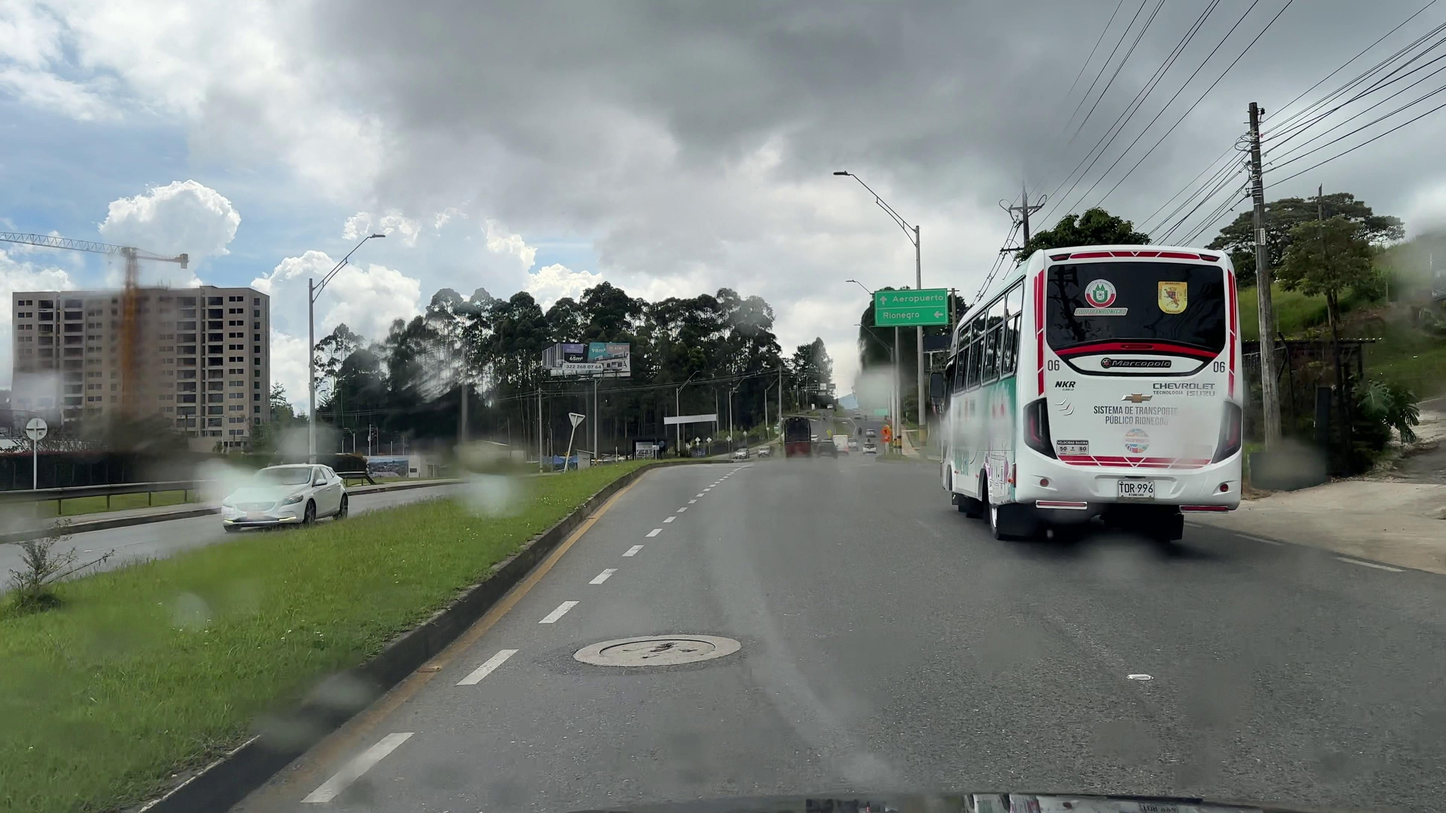registro: (599, 639, 715, 660)
